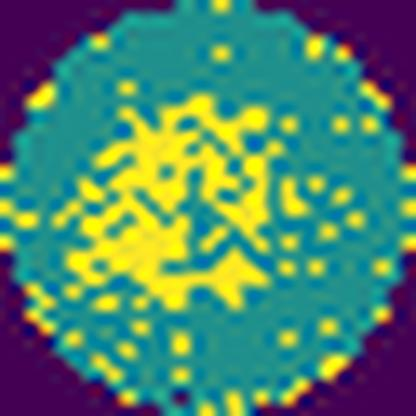Donut: (55, 89, 306, 326)
